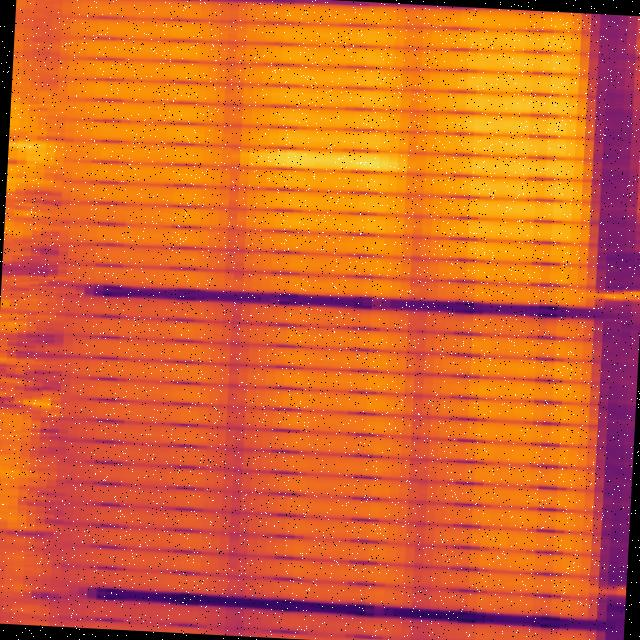Hotspot: (238, 145, 421, 175)
